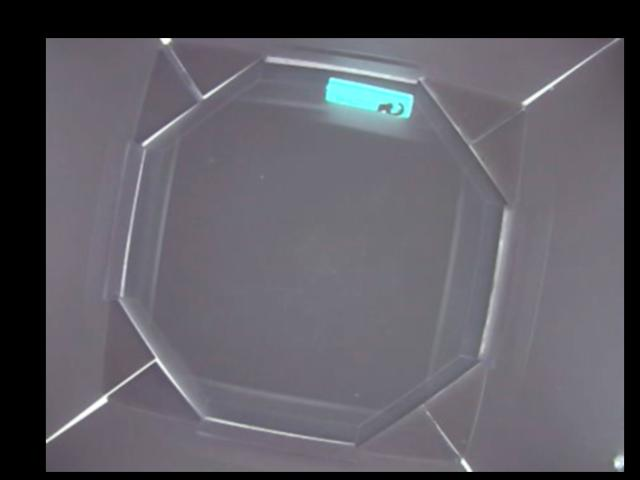Battery: (325, 76, 414, 116)
